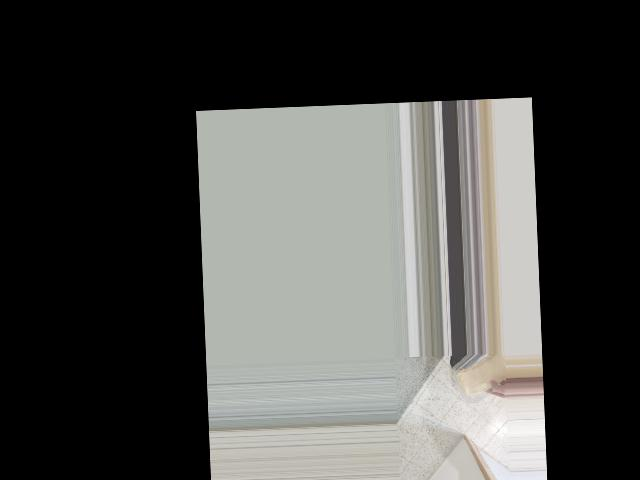cheese: (451, 352, 508, 403)
